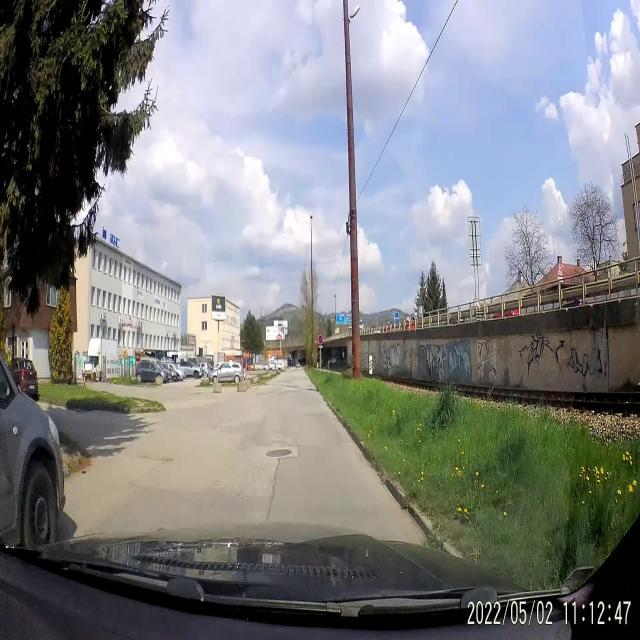Manhole: (264, 446, 292, 461)
